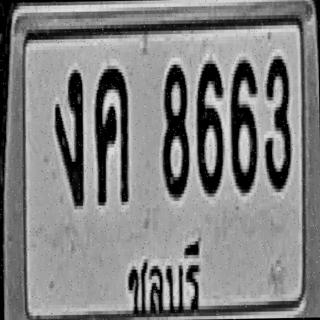A04: (93, 65, 129, 202)
A07: (53, 66, 84, 206)
N03: (263, 52, 291, 189)
N06: (229, 54, 258, 191), (195, 59, 224, 195)
N08: (160, 59, 189, 196)
P13: (120, 235, 205, 319)
